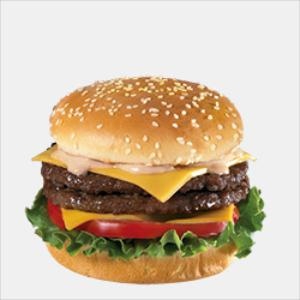cheeseburger_475cal: (25, 71, 269, 285)
